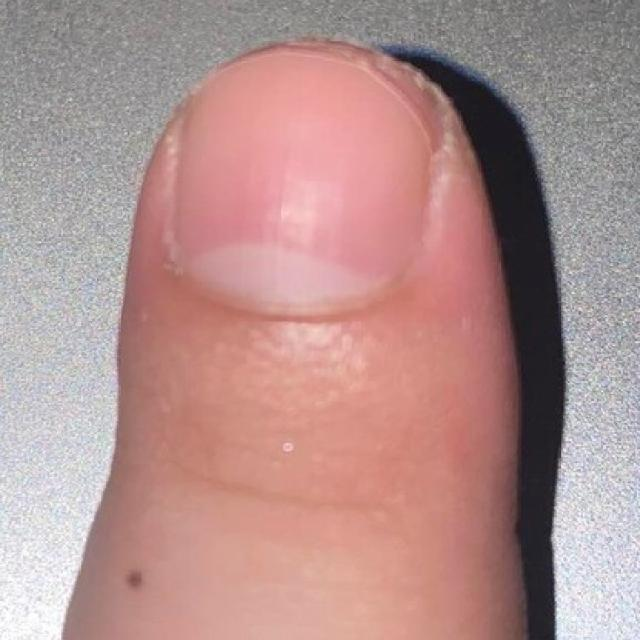Nail: (171, 51, 430, 316)
